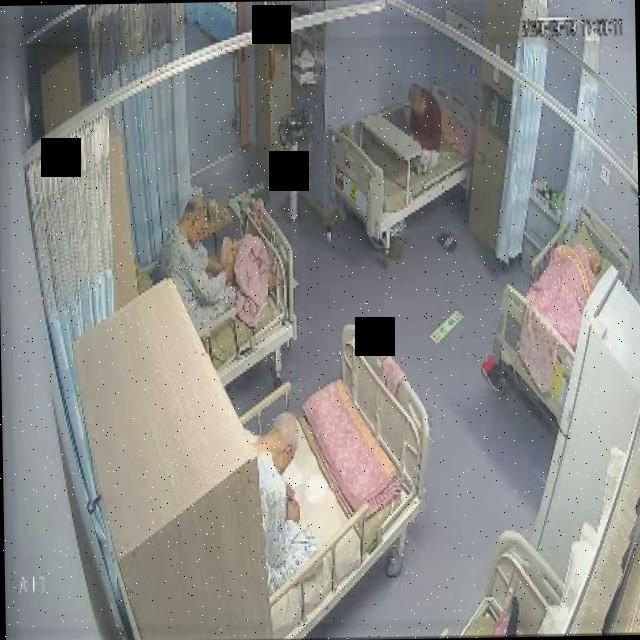bed: (254, 322, 433, 640), (492, 201, 638, 426), (168, 196, 296, 389), (328, 82, 472, 238)
patient: (157, 194, 278, 334), (245, 408, 318, 588), (401, 82, 444, 174)
sit: (160, 196, 277, 330), (246, 409, 320, 591), (400, 80, 444, 172)
